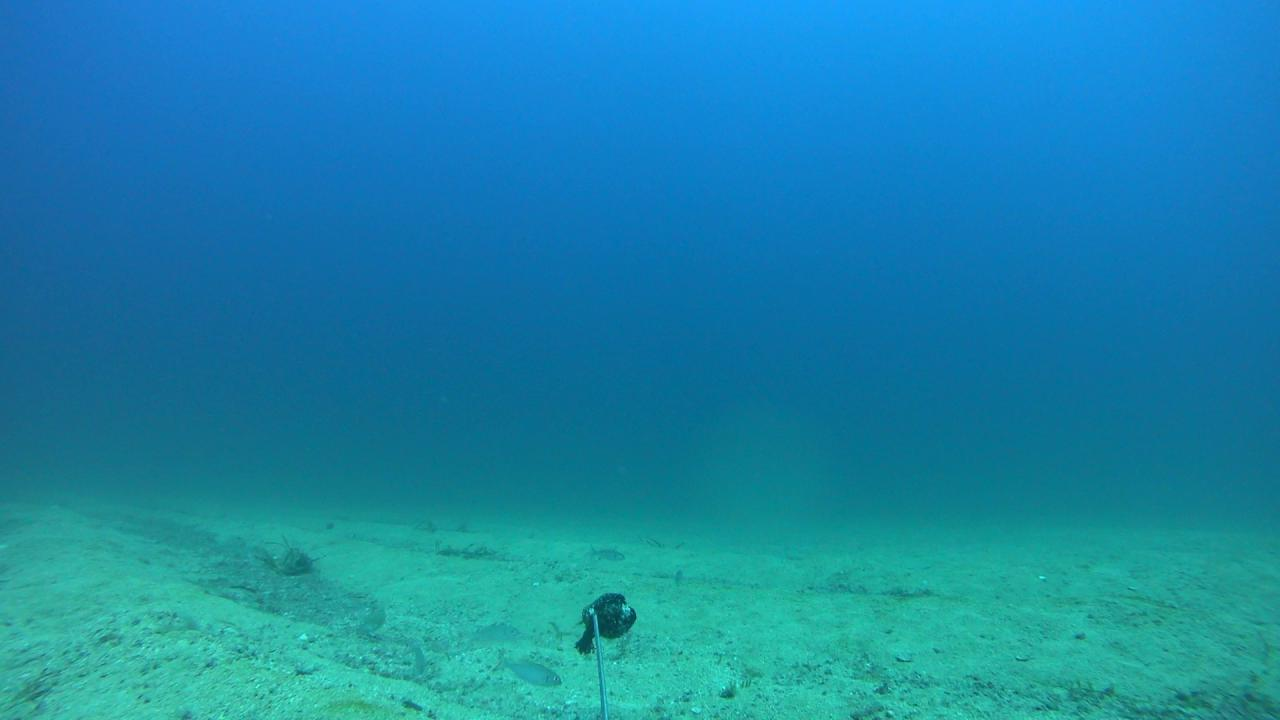pagellus: (492, 650, 561, 686), (454, 621, 520, 647), (588, 545, 626, 562)
